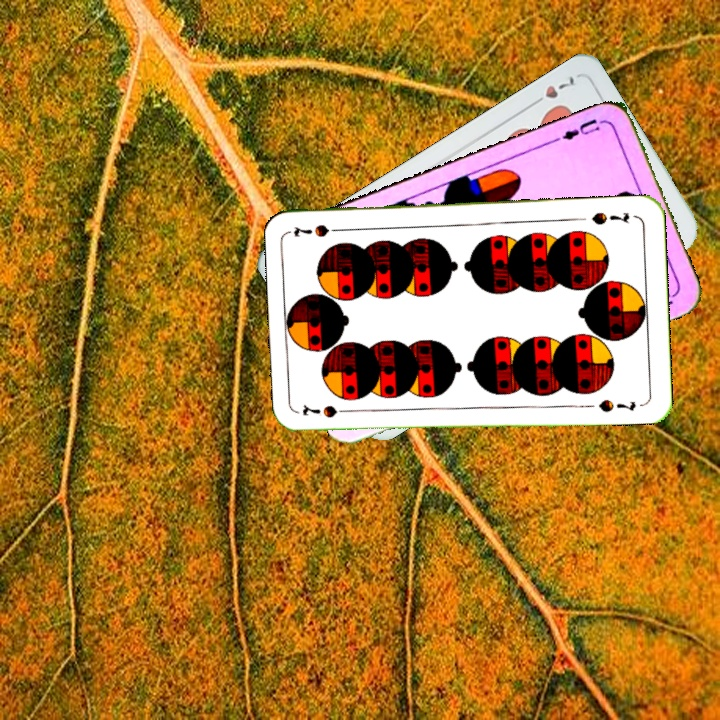EU: (552, 115, 602, 144)
H7: (526, 72, 577, 110)
S7: (299, 401, 356, 421), (587, 208, 632, 227)
